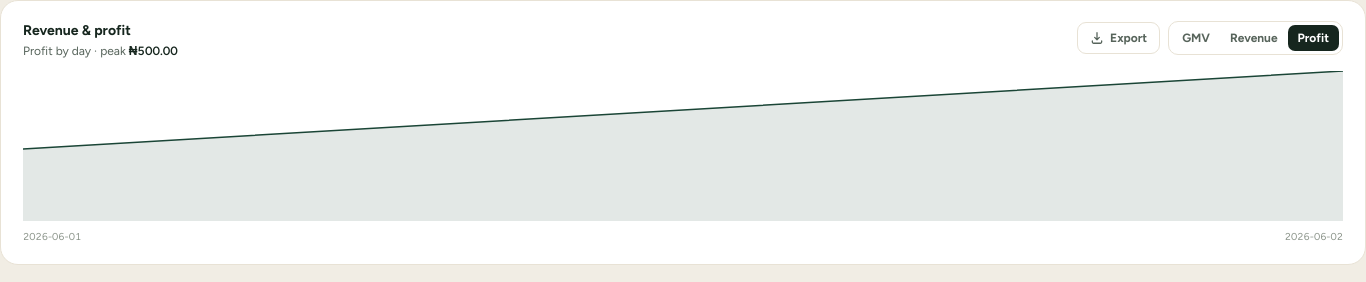
it: MoneyTrendCard › switches the plotted metric when a segment is clicked
The image size is (1366, 282).
Click the button "GMV": (1196, 38) top-left (1172, 25), bottom-right (1220, 51)
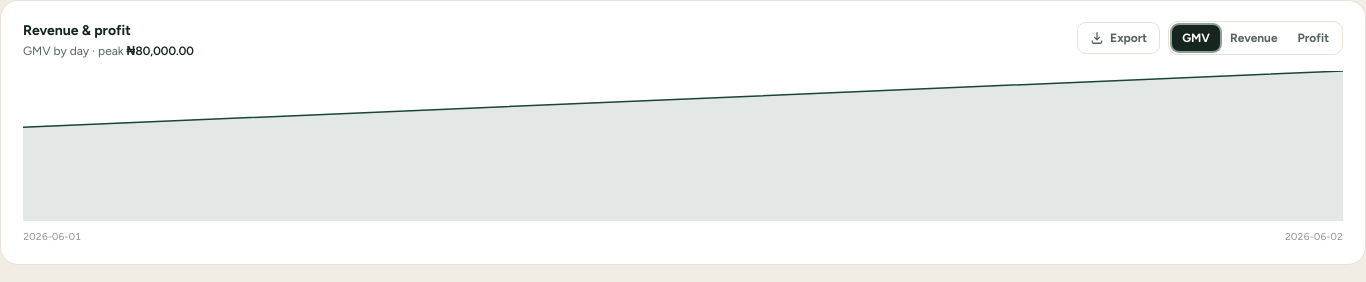
Now the text "₦80,000.00" is shown, box top-left (127, 44), bottom-right (194, 58)
Now the picture named "gmv" is shown, box top-left (23, 71), bottom-right (1343, 221)
